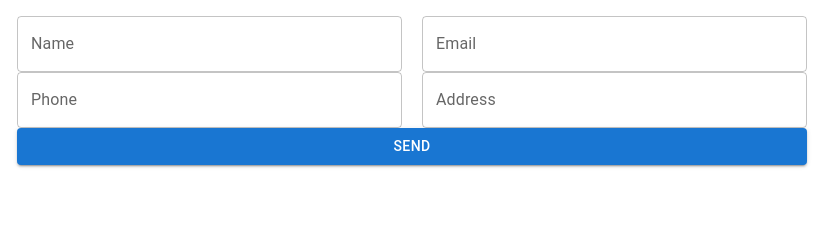
Scenario: FormComponent › displays validation error messages when submitting an empty email
Click the button "Send" at (412, 146), box [17, 128, 807, 164]
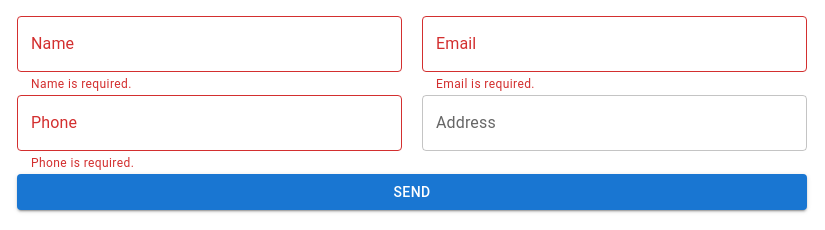
Expected: the text "Email is required." is shown, [436, 77, 535, 91]
